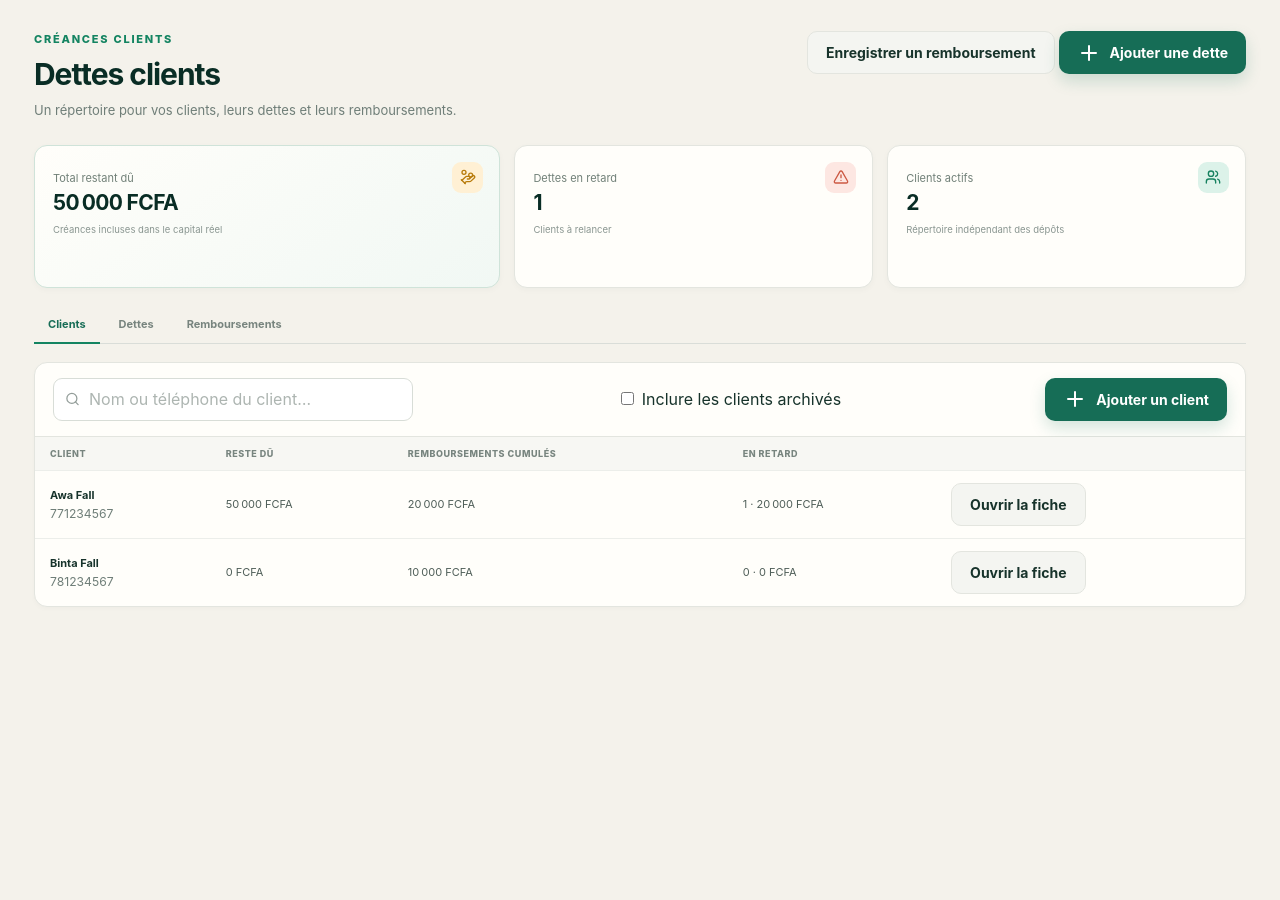
Test case: clients des dettes et remboursements globaux › réutilise la même requête après réponse perdue et empêche les doubles soumissions
Check: the text "Awa Fall" is shown, box [50,488,94,502]
Click the button "Enregistrer un remboursement".
click(931, 52)  # box [807,31,1054,74]
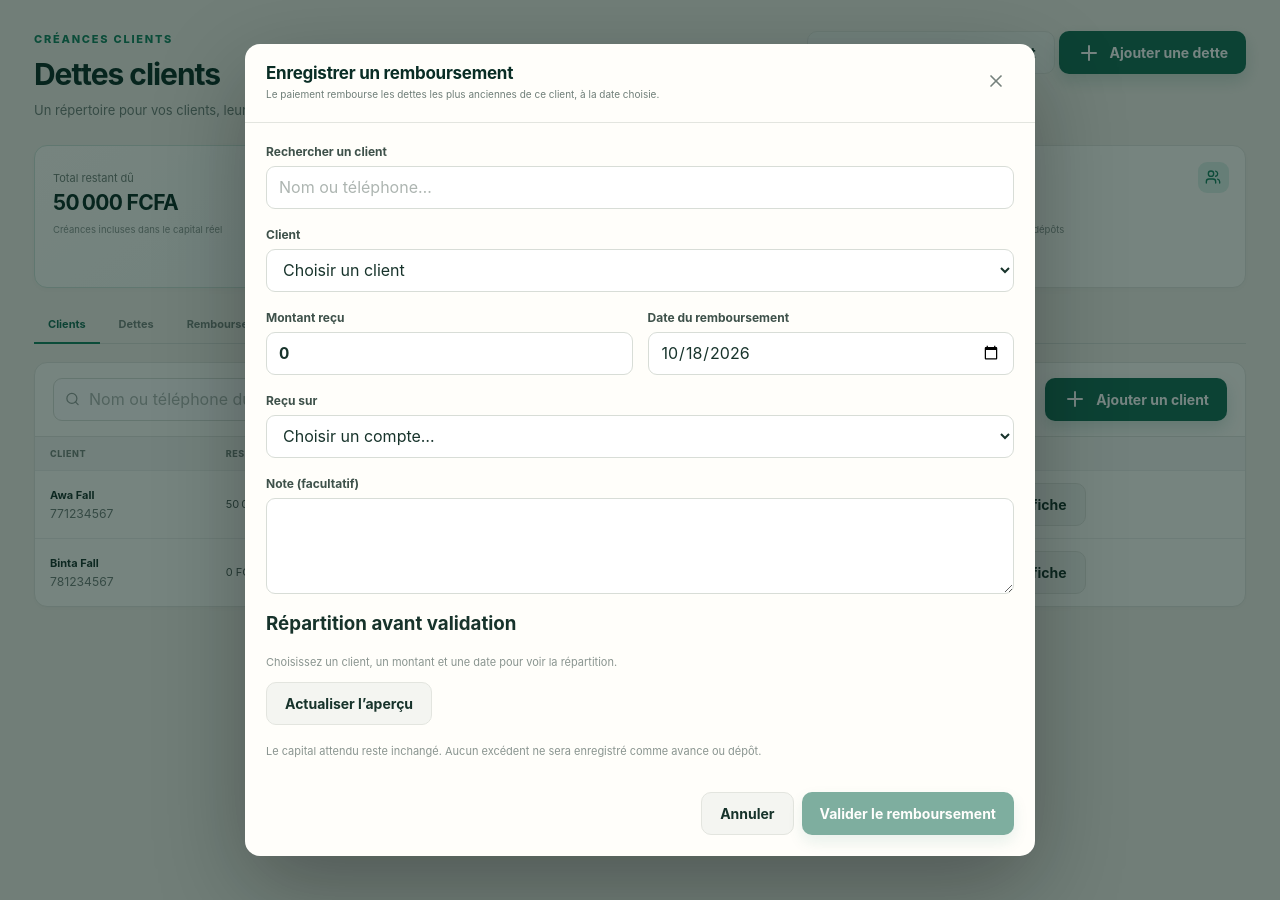
Select "Awa Fall · 771234567" in the dropdown labelled "Client" at {"x": 640, "y": 270}, box [266,249,1014,292]
Replace the text in the number field labelled "Montant reçu" with "35000" at {"x": 449, "y": 353}, box [266,332,632,375]
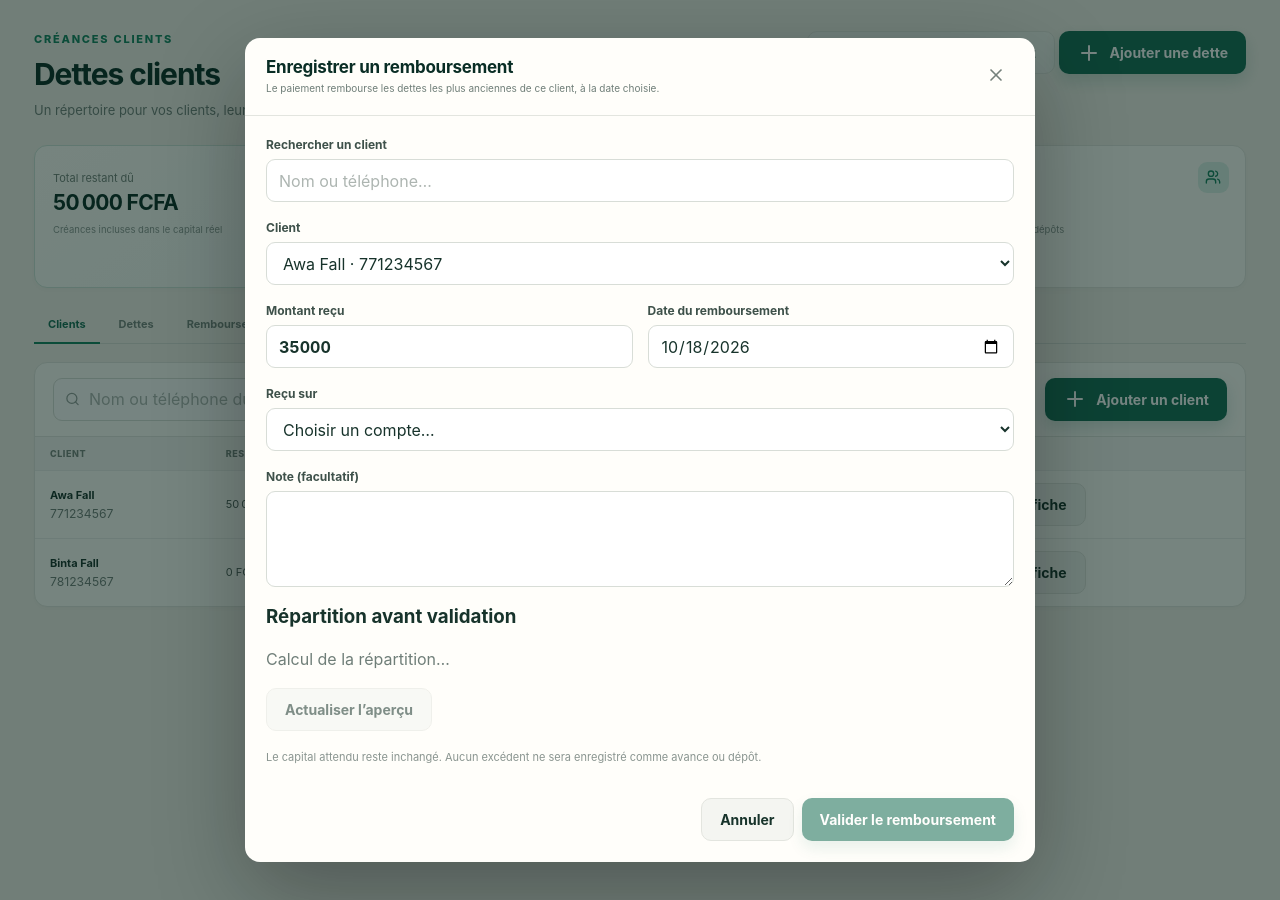
Type "2026-02-01" into the date field labelled "Date du remboursement".
click(831, 347); type("2026-02-01")  # box [648,326,1014,368]
Select "Espèces" in the dropdown labelled "Reçu sur" at {"x": 640, "y": 430}, box [266,408,1014,452]
(page scrolled)
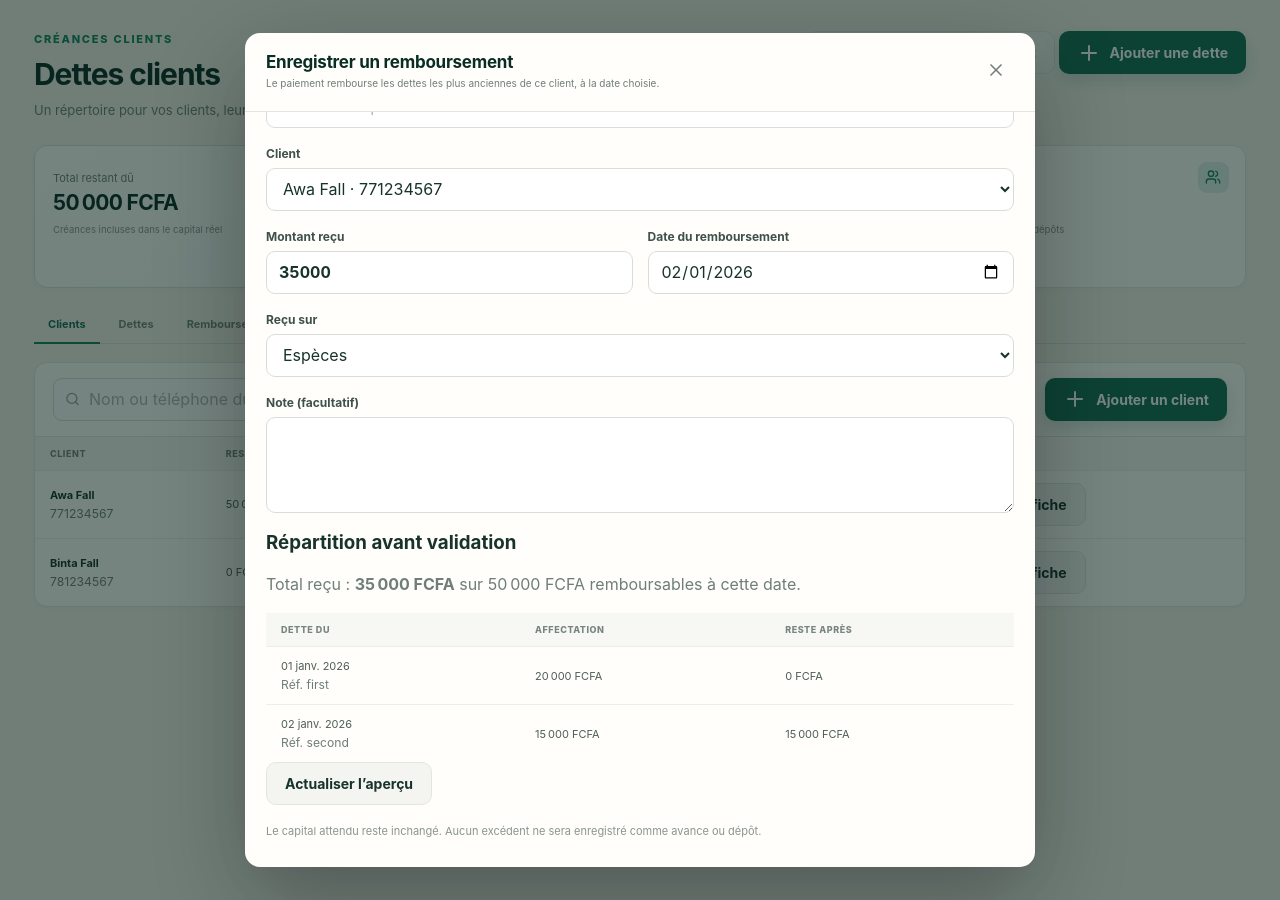
Submit the form named "Valider le remboursement"
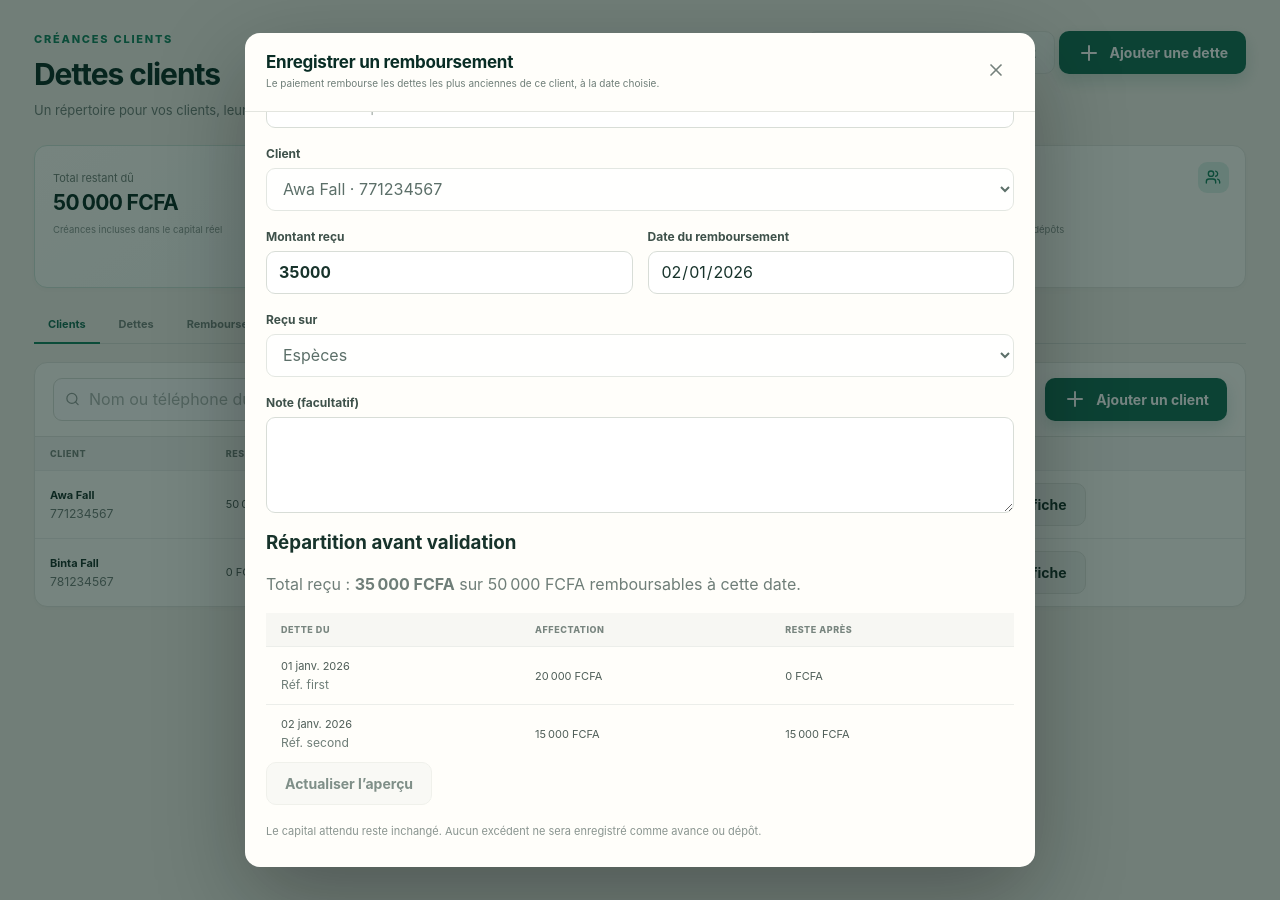
Submit the form named "Valider le remboursement"
(page scrolled)
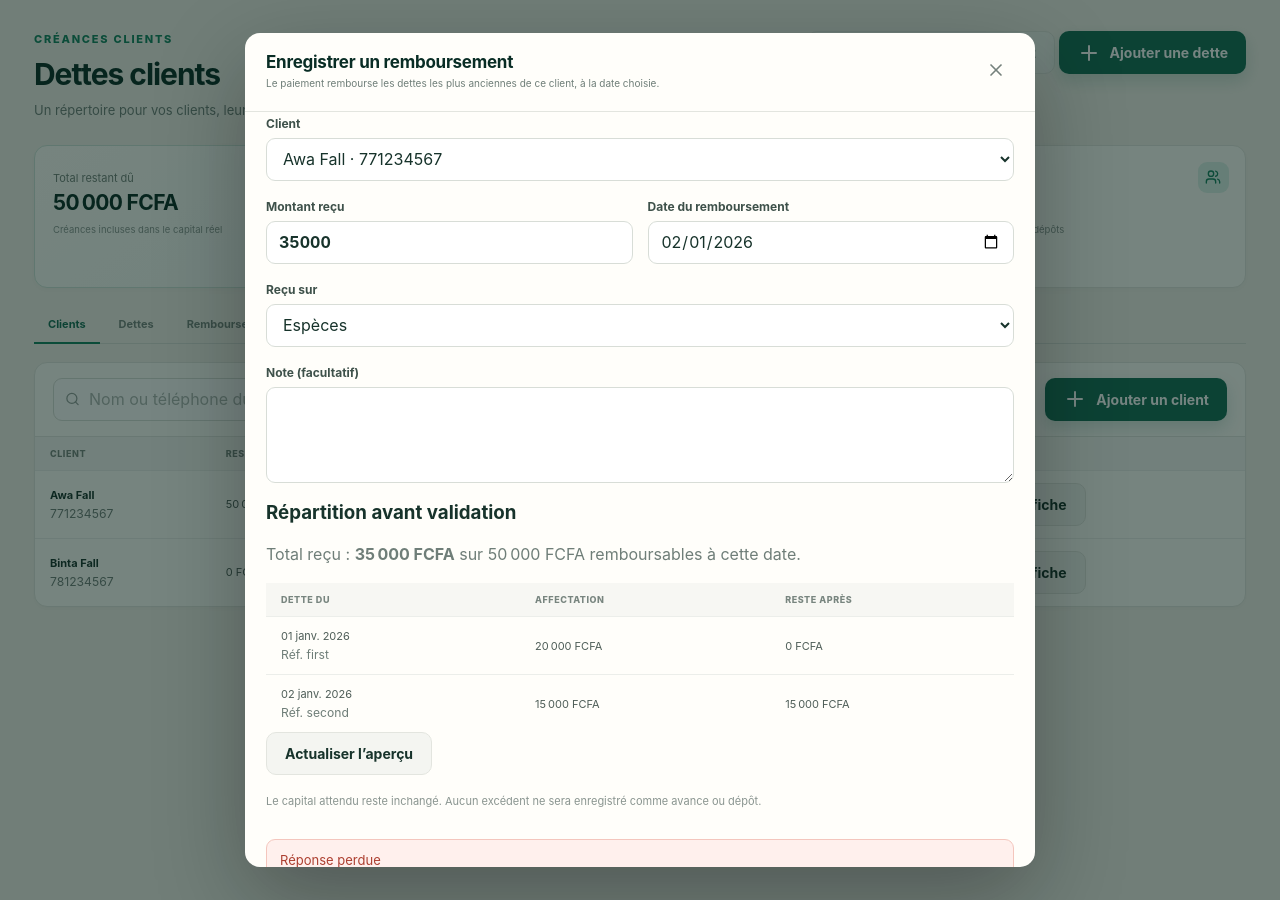
Check: the text "Réponse perdue" is shown, box [266,839,1014,867]
Submit the form named "Valider le remboursement"
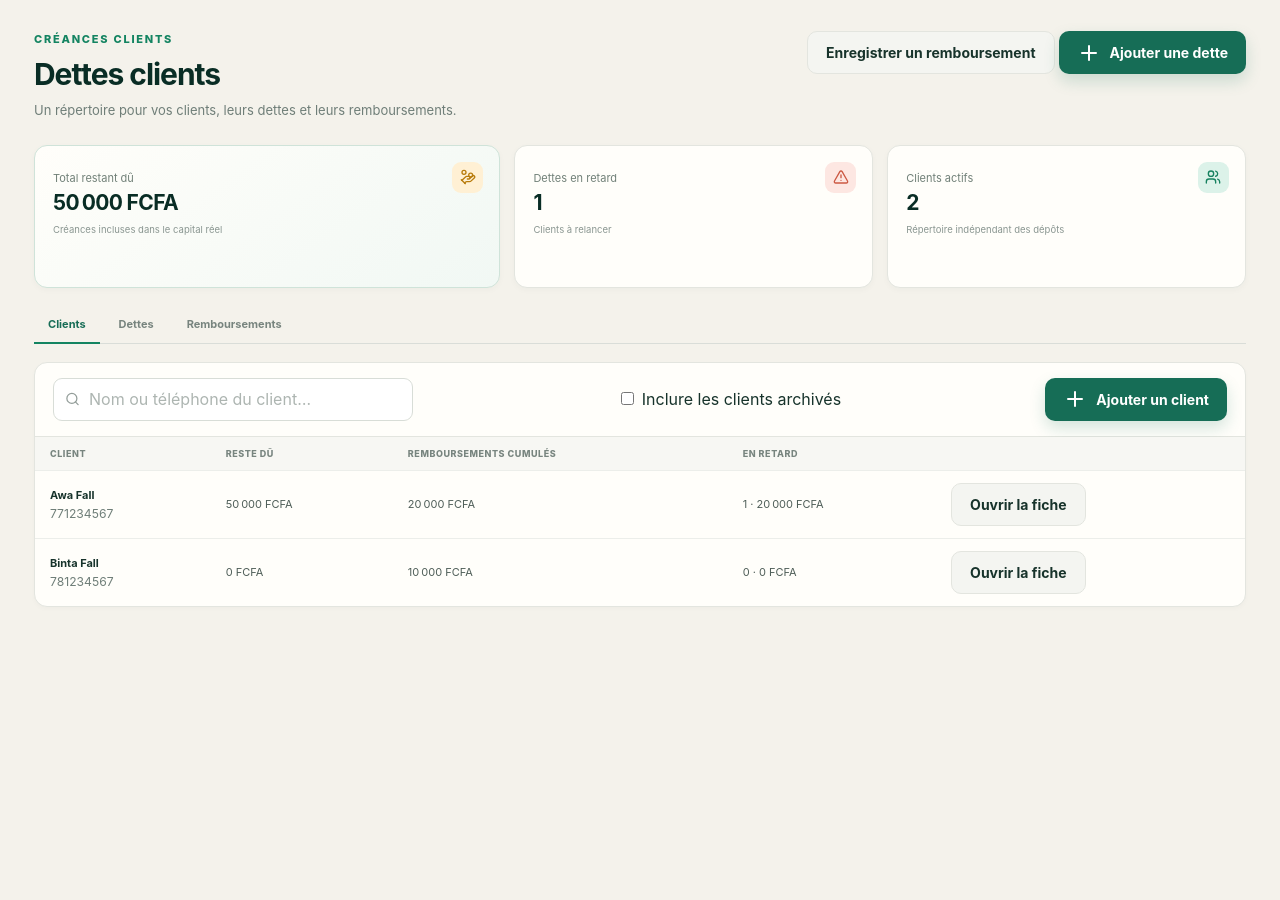
Check: the dialog is gone
